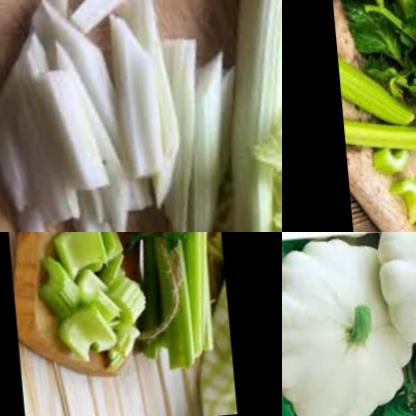celery: (0, 0, 253, 232), (169, 0, 282, 232), (20, 232, 148, 384), (105, 232, 226, 378), (381, 0, 416, 232), (336, 48, 414, 136), (340, 107, 416, 164), (384, 178, 416, 232), (367, 146, 410, 181)
squash-patisson: (282, 237, 416, 416), (379, 232, 416, 368)
